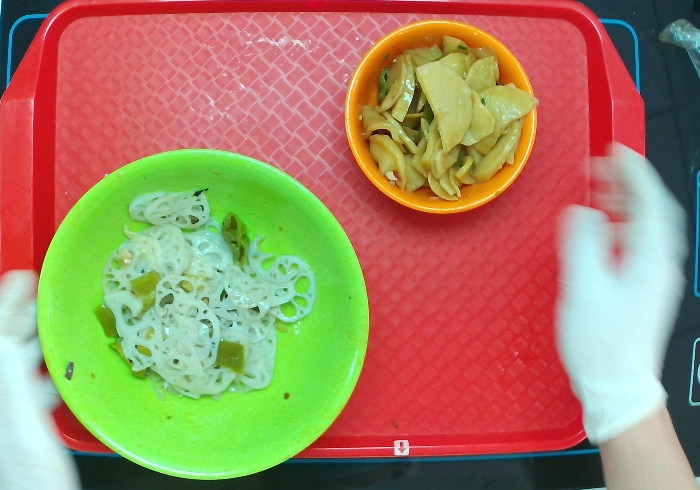YKMZ-Ju_Se_Yuan_Wan: (341, 17, 541, 217)
YKMZ-Lv_Se_Tang_Wan: (33, 149, 369, 481)
